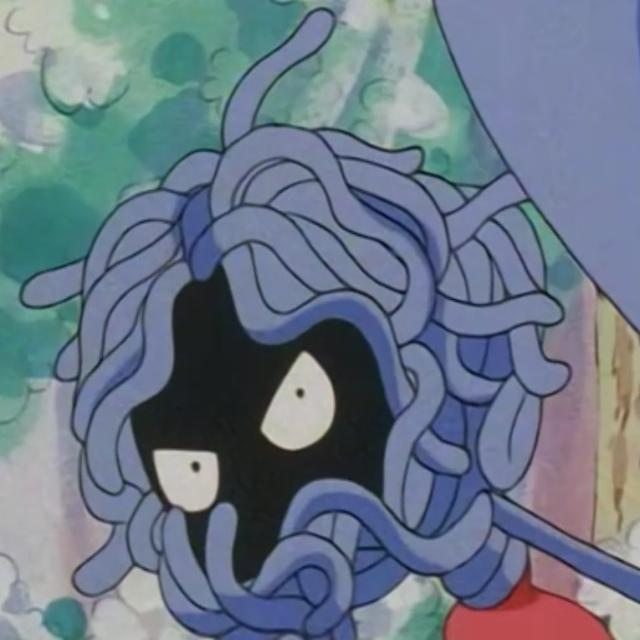Tangela: (98, 154, 578, 625)
